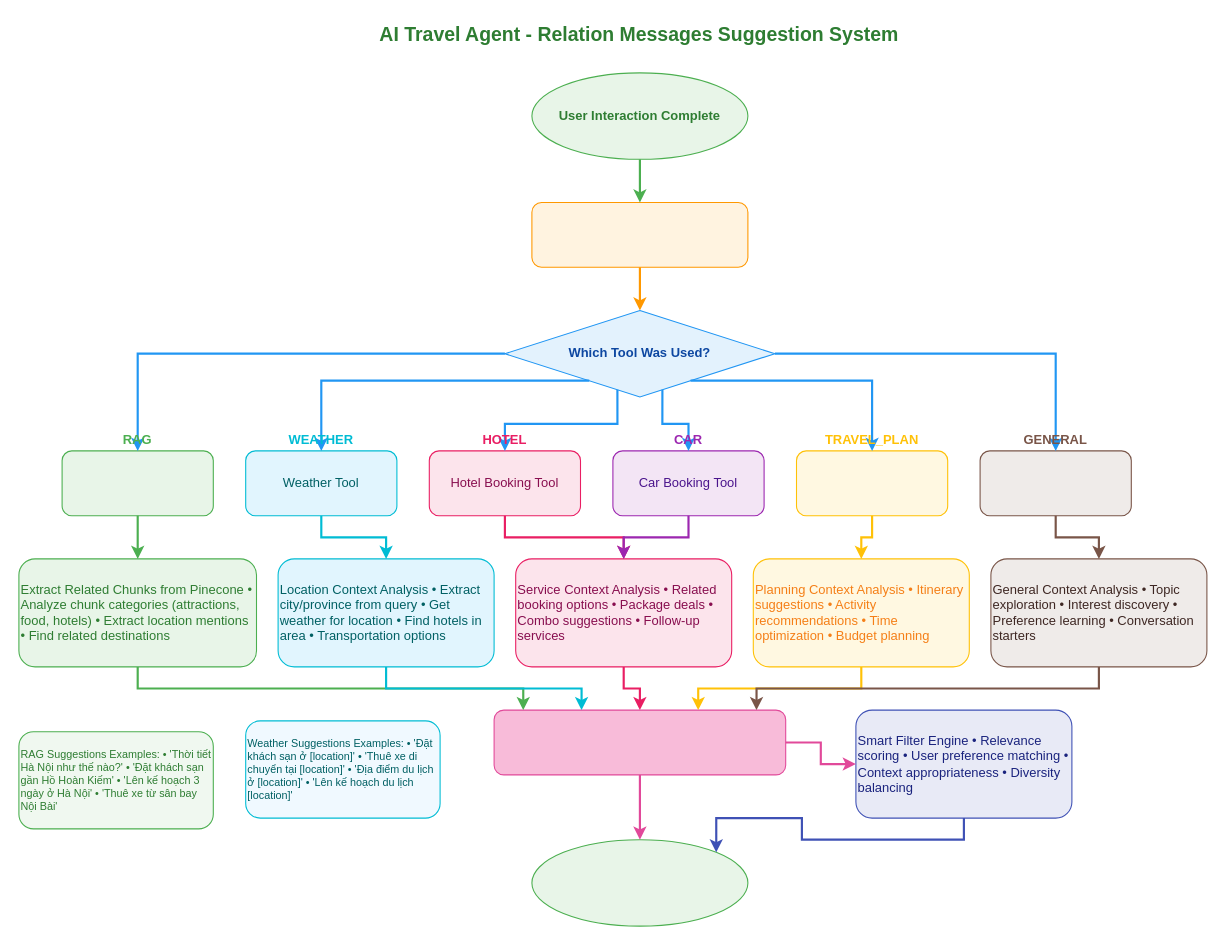
This 1226x945 diagram has some shape labels left out. Here are the shapes that lost their labels. From the top down, the box of each, then its label:
(531, 201, 748, 267): Context Analysis
(61, 450, 213, 516): RAG Search Tool
(795, 450, 948, 516): Travel Planning Tool
(979, 450, 1131, 516): General Chat
(493, 709, 786, 775): Suggestion Generation Engine
(531, 839, 748, 926): Display Related Questions/Prompts (3-5 personalized suggestions)
